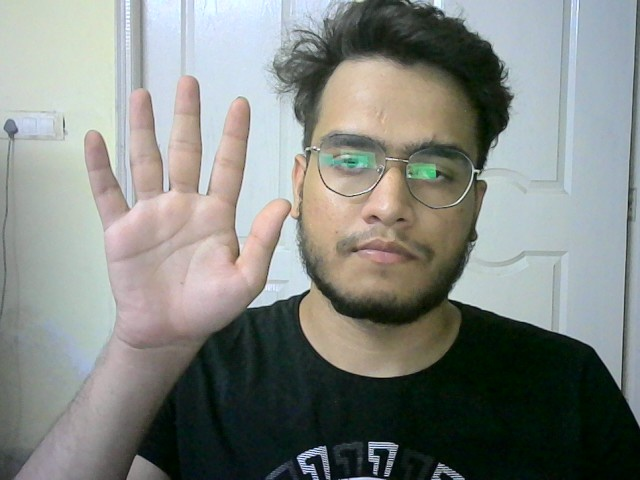Hello: (81, 73, 294, 347)
